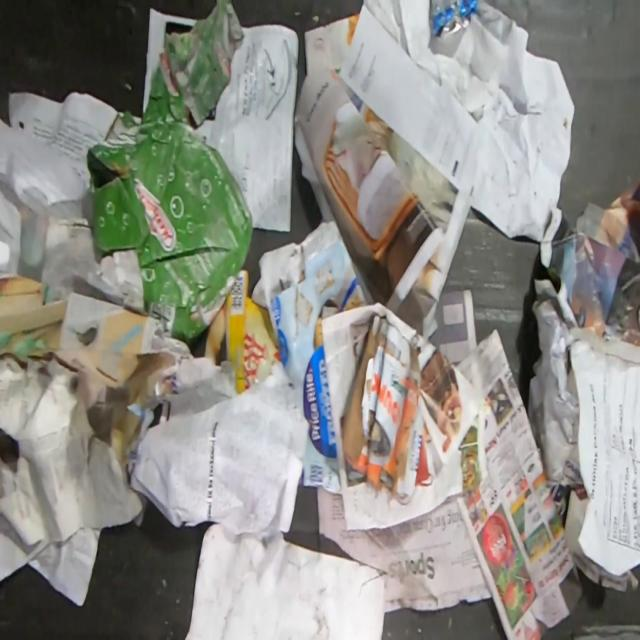cardboard: (87, 0, 254, 345), (0, 271, 192, 474), (268, 220, 368, 496), (203, 269, 280, 394)
metal: (428, 0, 478, 43)
